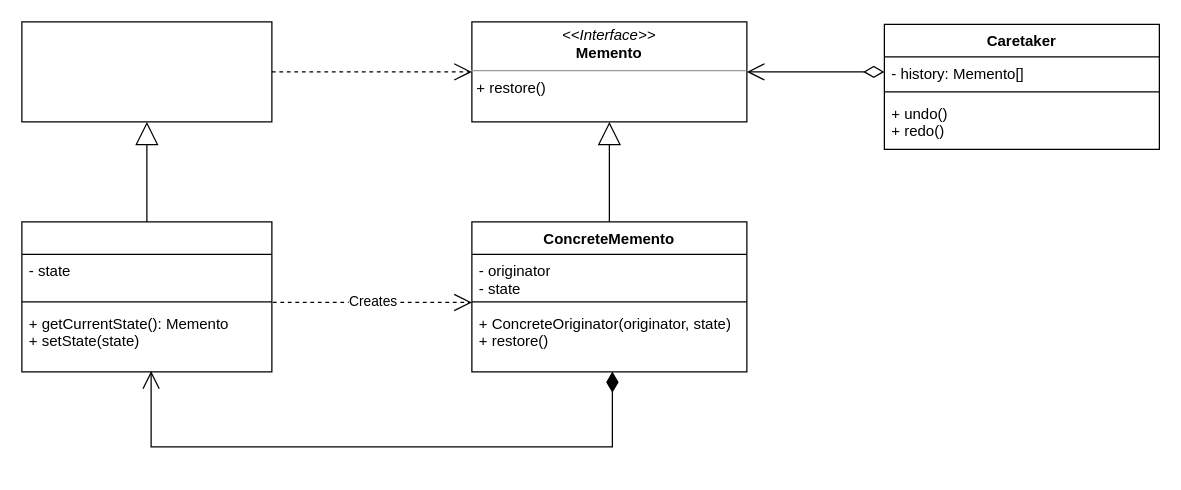
The diagram is 1181 pixels wide and 490 high, and some of its shapes have lost their labels. The shapes that lost their labels are listed below. From the top down, each one's box as (x1, y1, x2, y2) in pixels, then its label:
(21, 21, 272, 122): <<Interface>> Originator + getCurrentState(): Memento
(21, 221, 272, 372): ConcreteOriginator
